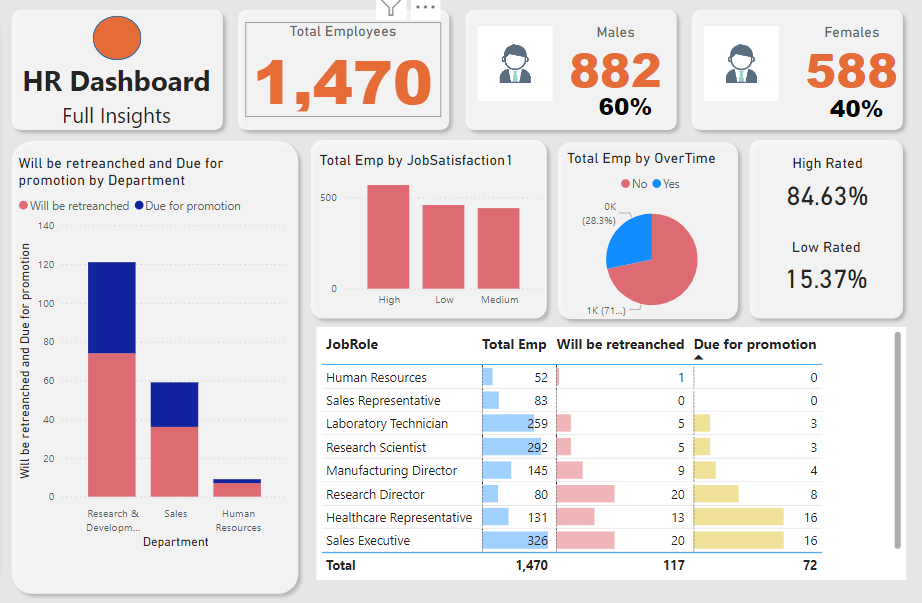

The dashboard page shown, as its layout file describes it:
{"tool":"powerbi","page":{"name":"Details","canvas":[1280,720],"ordinal":2},"visuals":[{"type":"shape","box":[10.7,0,179.8,720],"z":0},{"type":"shape","box":[190.4,17.8,261.6,156.6],"z":1000},{"type":"shape","box":[452.1,17.8,261.6,156.6],"z":2000},{"type":"shape","box":[713.7,17.8,261.6,156.6],"z":3000},{"type":"shape","box":[975.3,17.8,261.6,156.6],"z":4000},{"type":"textbox","box":[202.5,81.2,236.2,56.2],"z":5000},{"type":"textbox","box":[202.5,126.2,236.2,48.8],"z":6000},{"type":"shape","box":[292.5,33.8,56.2,51.2],"z":7000},{"type":"card","title":"Total Employees","fields":{"Values":["All Measures.Total Emp"]},"box":[469.3,41,225.6,108.6],"z":8000},{"type":"card","title":"Males","fields":{"Values":["All Measures.Male"]},"box":[833.8,42.5,125,83.8],"z":9000},{"type":"card","title":"Males","fields":{"Values":["All Measures.% male"]},"box":[845,110,125,58.8],"z":10000},{"type":"card","title":"Females","fields":{"Values":["All Measures.Female"]},"box":[1106.2,41.2,125,83.8],"z":11000},{"type":"card","title":"Males","fields":{"Values":["All Measures.% female"]},"box":[1112.5,111.2,125,58.8],"z":12000},{"type":"image","box":[729.9,41,100.1,96.5],"z":13000},{"type":"image","box":[991.7,41,100.1,96.5],"z":14000},{"type":"shape","box":[190.6,168.9,348.7,540.5],"z":15000},{"type":"columnChart","fields":{"Category":["HR Analytics Data.Department"],"Y":["All Measures.Will be retreanched","All Measures.Due for promotion"]},"box":[202.7,193,322.1,459.7],"z":16000},{"type":"shape","box":[535.7,167.7,290.8,224.4],"z":17000},{"type":"shape","box":[820.4,170.1,225.6,222],"z":18000},{"type":"shape","box":[1042.4,167.7,195.4,224.4],"z":19000},{"type":"clusteredColumnChart","fields":{"Category":["HR Analytics Data.JobSatisfaction1"],"Y":["All Measures.Total Emp"]},"box":[550.1,189.4,269,189.4],"z":20000},{"type":"pieChart","fields":{"Category":["HR Analytics Data.OverTime"],"Y":["All Measures.Total Emp"]},"box":[836.1,187,206.3,205.1],"z":21000},{"type":"tableEx","fields":{"Values":["HR Analytics Data.JobRole","All Measures.Total Emp","All Measures.Will be retreanched","All Measures.Due for promotion"]},"box":[551.3,392.1,680.4,292],"z":22000},{"type":"card","title":"High Rated","fields":{"Values":["All Measures.%High Rated"]},"box":[1047.2,193,187,73.6],"z":23000},{"type":"card","title":"Low Rated","fields":{"Values":["All Measures.%Low Rated"]},"box":[1049.6,289.5,181,71.2],"z":24000},{"type":"pageNavigator","box":[27.4,150,142.8,272.7],"z":24001}]}

Visuals, with their boxes on the page's 1280x720 design canvas (x1, y1, x2, y2). These are canvas units, not pixel positions in the 922x603 screenshot, which may show the page scaled, cropped or inside an application window:
shape: l=11, t=0, r=190, b=720
shape: l=190, t=18, r=452, b=174
shape: l=452, t=18, r=714, b=174
shape: l=714, t=18, r=975, b=174
shape: l=975, t=18, r=1237, b=174
textbox: l=202, t=81, r=439, b=137
textbox: l=202, t=126, r=439, b=175
shape: l=292, t=34, r=349, b=85
"Total Employees" card: l=469, t=41, r=695, b=150
"Males" card: l=834, t=42, r=959, b=126
"Males" card: l=845, t=110, r=970, b=169
"Females" card: l=1106, t=41, r=1231, b=125
"Males" card: l=1112, t=111, r=1238, b=170
image: l=730, t=41, r=830, b=138
image: l=992, t=41, r=1092, b=138
shape: l=191, t=169, r=539, b=709
columnChart - HR Analytics Data.Department x All Measures.Will be retreanched: l=203, t=193, r=525, b=653
shape: l=536, t=168, r=826, b=392
shape: l=820, t=170, r=1046, b=392
shape: l=1042, t=168, r=1238, b=392
clusteredColumnChart - HR Analytics Data.JobSatisfaction1 x All Measures.Total Emp: l=550, t=189, r=819, b=379
pieChart - HR Analytics Data.OverTime x All Measures.Total Emp: l=836, t=187, r=1042, b=392
tableEx - HR Analytics Data.JobRole x All Measures.Total Emp: l=551, t=392, r=1232, b=684
"High Rated" card: l=1047, t=193, r=1234, b=267
"Low Rated" card: l=1050, t=290, r=1231, b=361
pageNavigator: l=27, t=150, r=170, b=423
